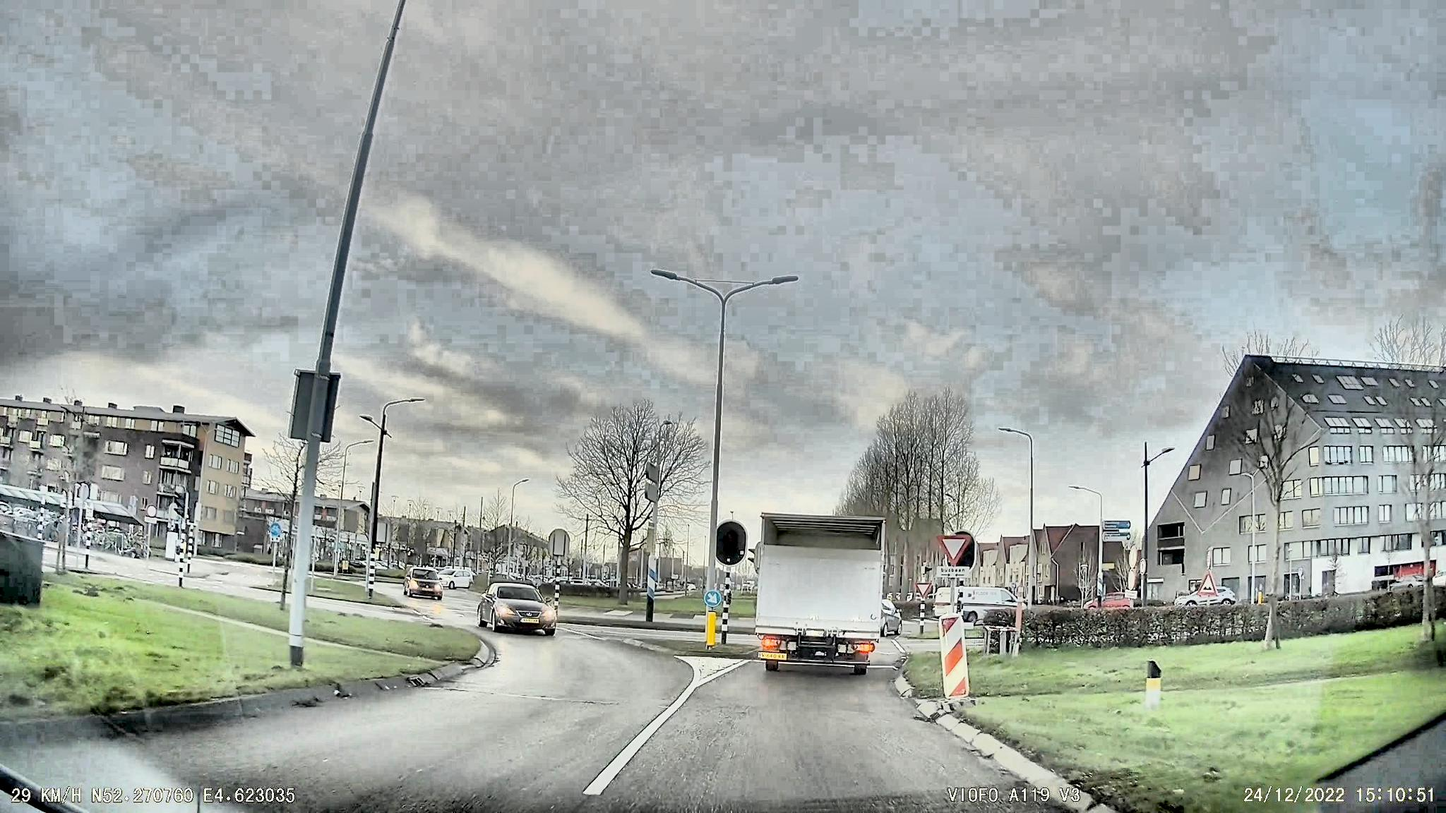Roads: (0, 632, 1117, 813)
